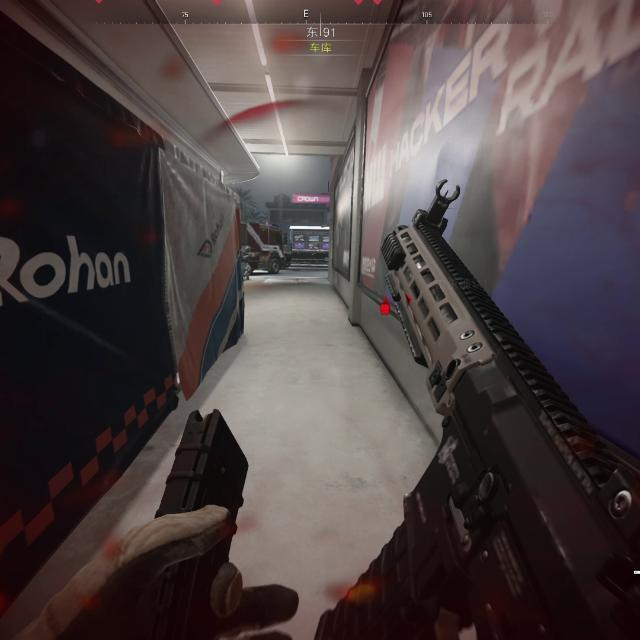MW2_body: (241, 245, 256, 280)
